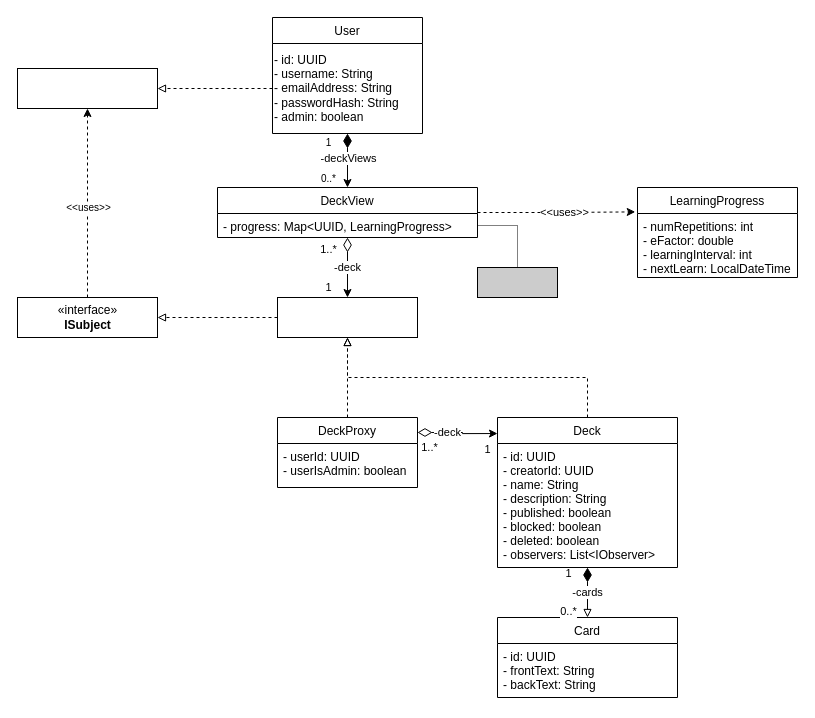
This 815x718 diagram has some shape labels left out. The shapes that lost their labels are listed below. From the top down, each one's centre as x and y in pixels, then its label:
At (87,88): "«interface» IObserver".
At (517,282): "Progress per card".
At (347,317): "«interface» IDeck".
